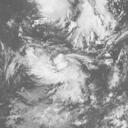cyclone: (26, 46, 83, 86)
